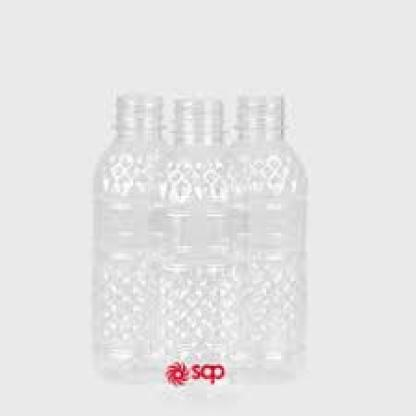Glass Bottle: (219, 90, 313, 385), (152, 94, 240, 400), (92, 87, 168, 388)
